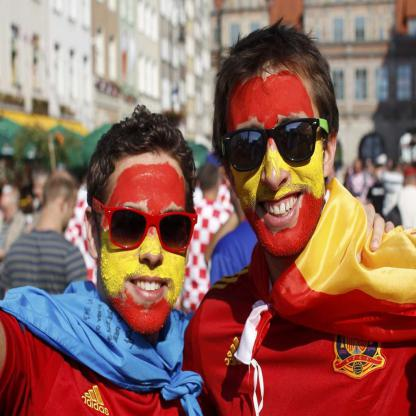face: (223, 68, 327, 255), (103, 155, 191, 336)
